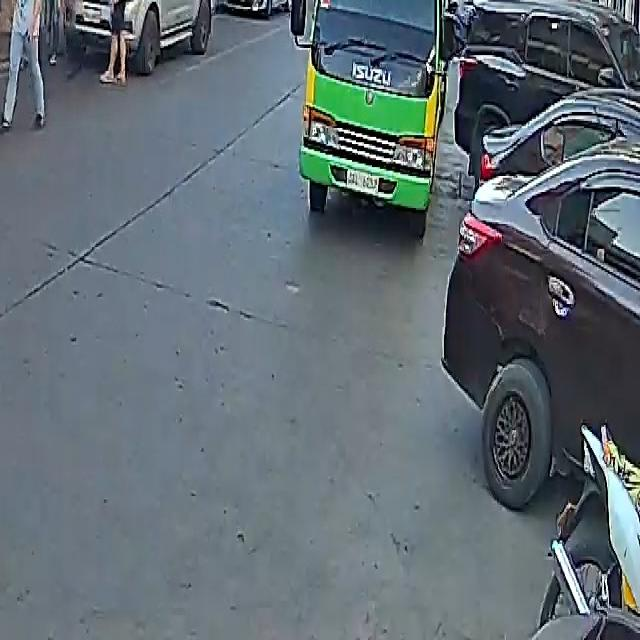car: (443, 47, 640, 536), (448, 0, 639, 185), (73, 0, 219, 82), (218, 0, 291, 18)
